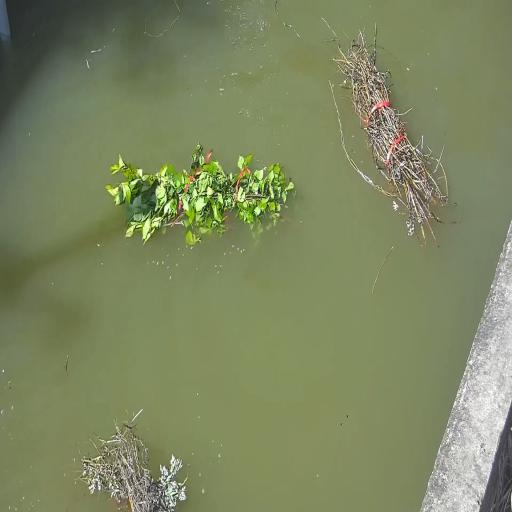twig: (329, 32, 447, 242), (106, 143, 294, 245), (81, 413, 186, 512)
